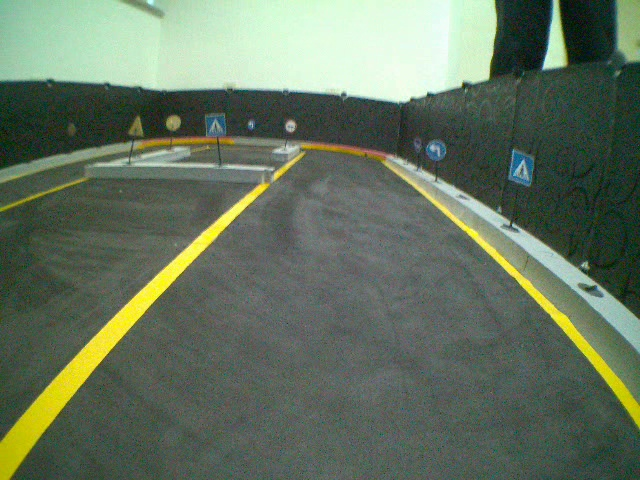Check: (283, 117, 297, 133)
crossing: (508, 149, 535, 185), (204, 112, 226, 136)
turn: (424, 139, 448, 161)
